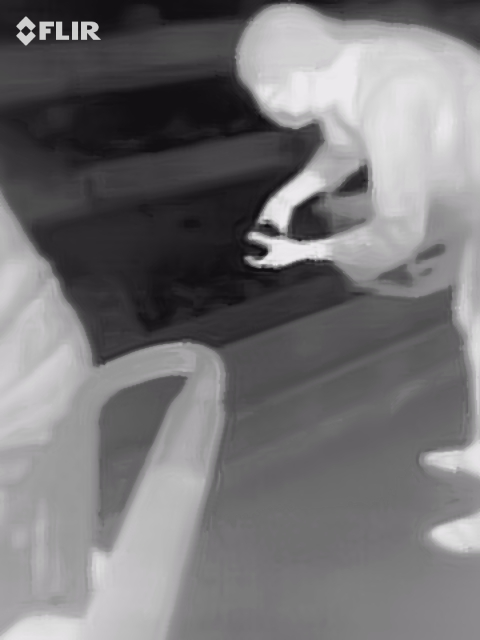head: (234, 5, 336, 125)
